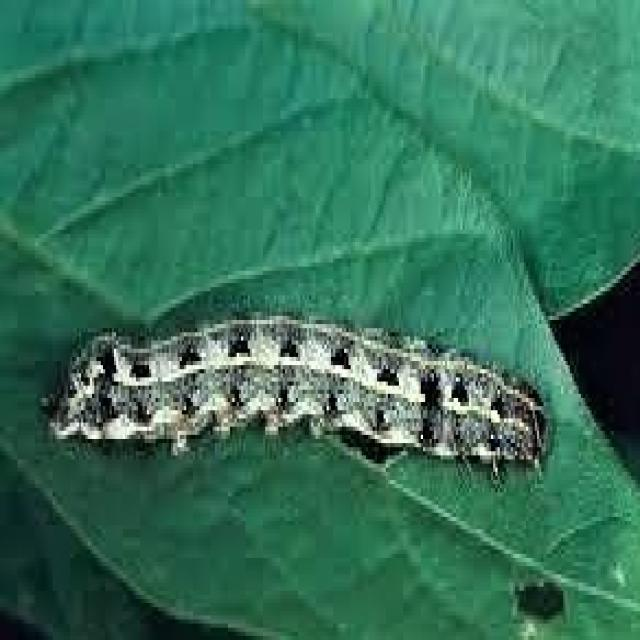armyworm: (39, 308, 548, 484)
